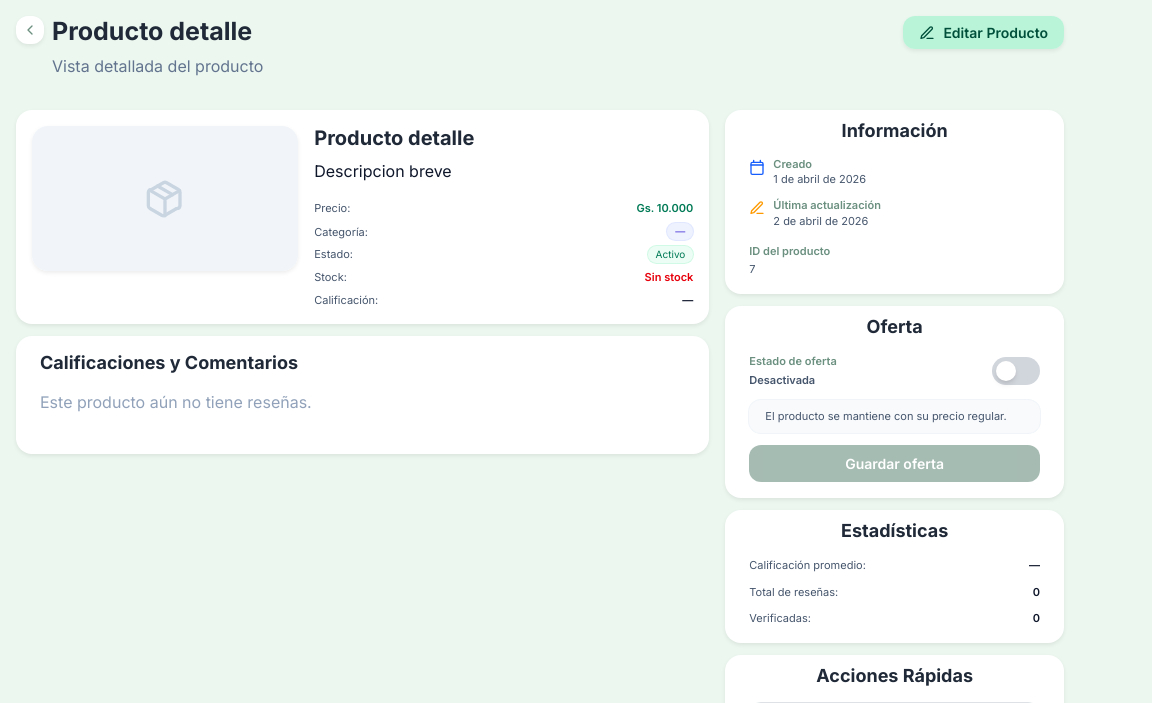
Test case: ProductDetailView › permite actualizar la oferta desde ProductDetailView
Expected: the button "Editar Producto" is shown, [903,16,1064,49]
Click the switch named "activar oferta".
click(1016, 371)  # box [992,357,1040,385]
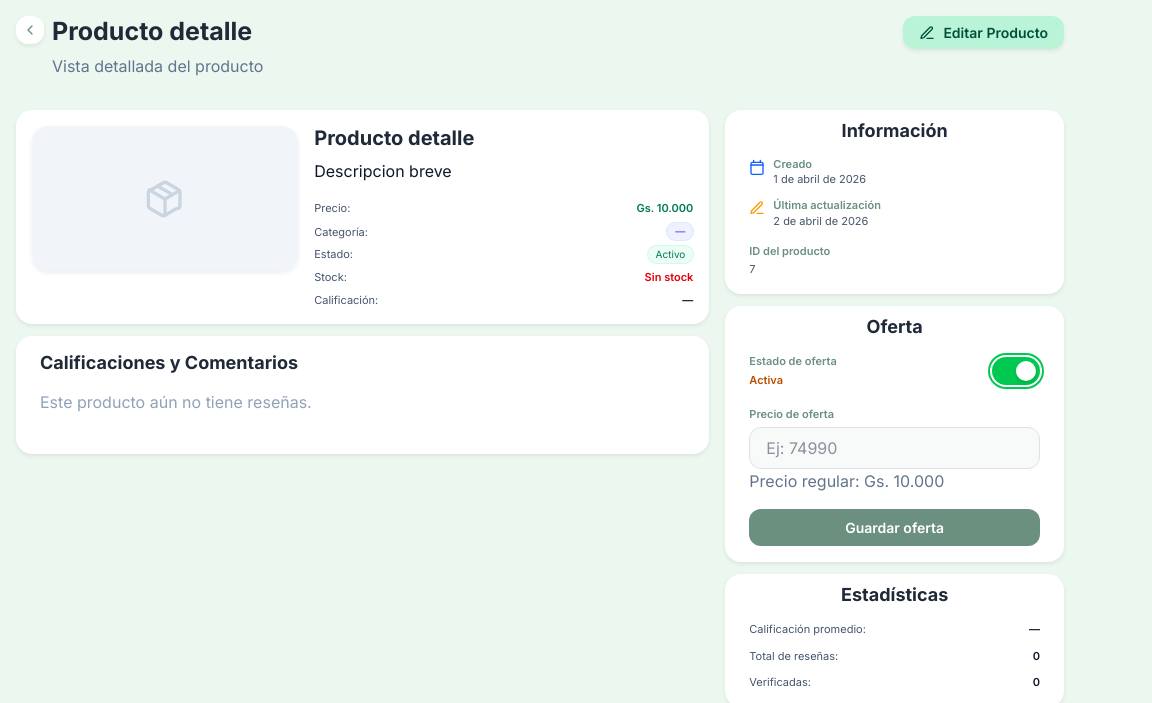
Type "8500" into the number field labelled "Precio de oferta".
click(895, 448); type("8500")  # box [749,427,1040,469]
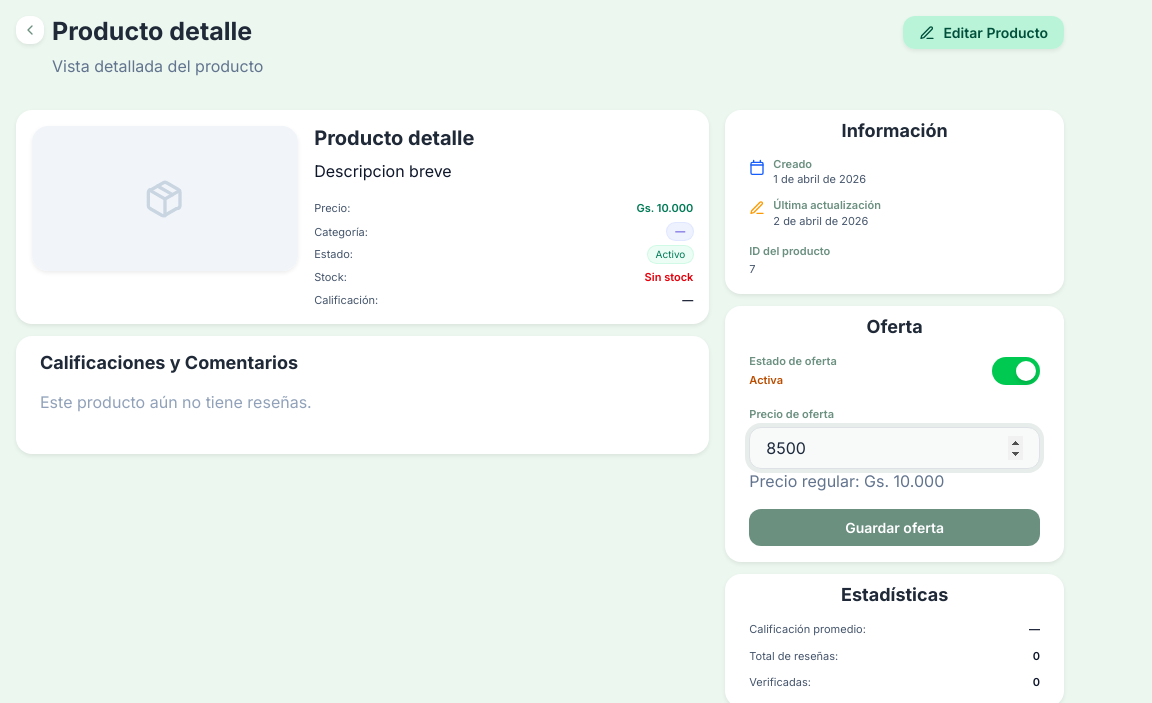
Click the button "Guardar oferta".
click(895, 527)  # box [749,509,1040,546]
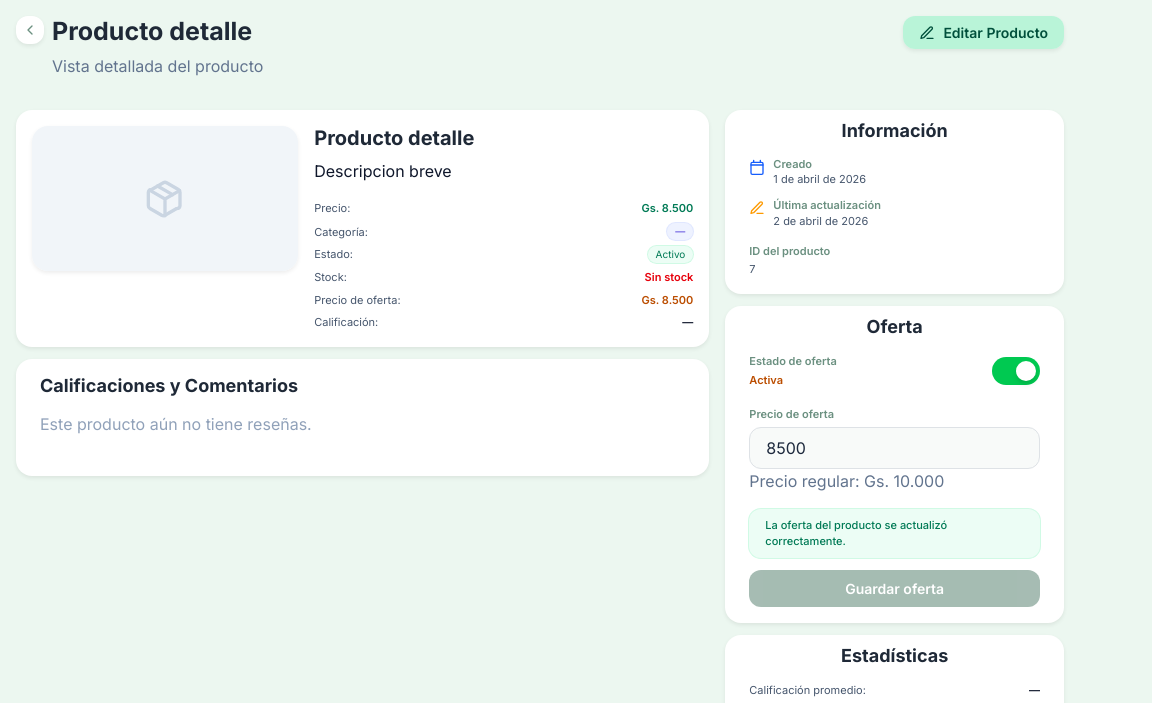
Now the text "La oferta del producto se actualizó correctamente." is shown, box [749,509,1040,558]
